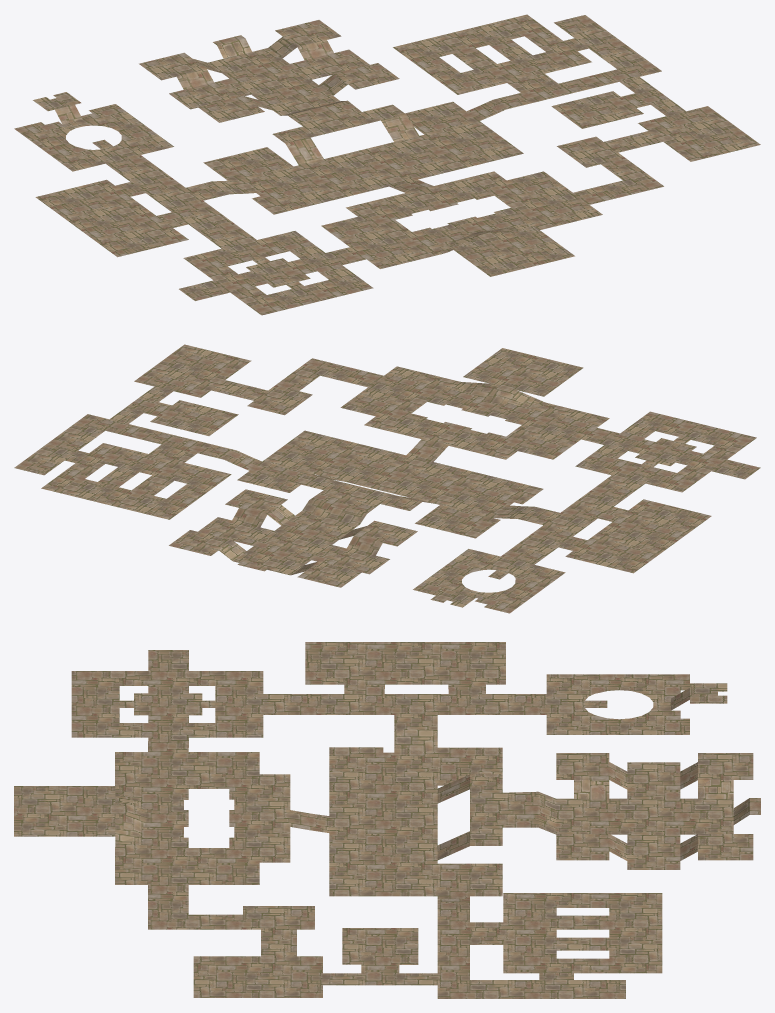
The model's file is Level2-ForbiddenTemple-Recast.FBX.
3 renders of one model, top to bottom at view 1: azimuth 30°, elevation 25°; view 2: azimuth 150°, elevation 25°; view 3: azimuth 270°, elevation 25°, orthographic. The views are drawn at different scales.
Visible parts, largest first — view 1: 0_Floor; view 2: 0_Floor; view 3: 0_Floor.
Boxes of the visible parts, x1,y1,x2,y2 form: 0_Floor: [14, 14, 760, 315]; 0_Floor: [14, 344, 760, 613]; 0_Floor: [14, 642, 760, 998].
Bounding box in the file's own units: 10383 × 249 × 9186.
